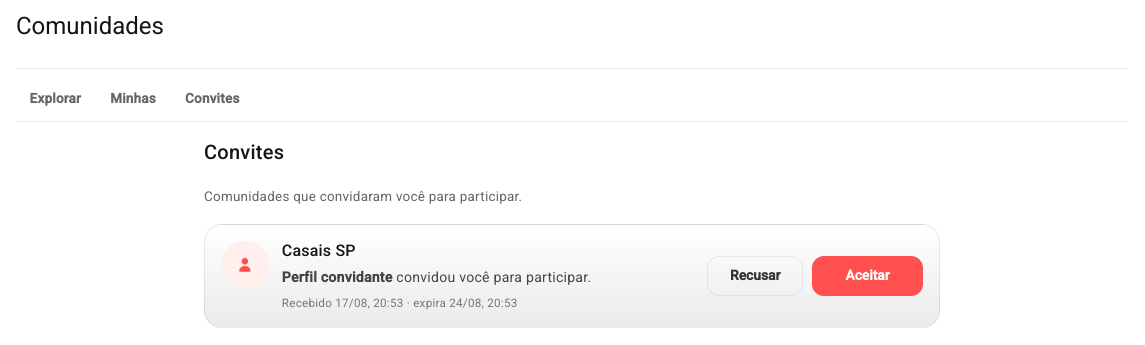
Test: CommunityInvitesPageComponent › mostra progresso apenas no botão Recusar durante a recusa
Click the button with class "community-invite-card__decline" at (755, 276), box [707,256,803,296]
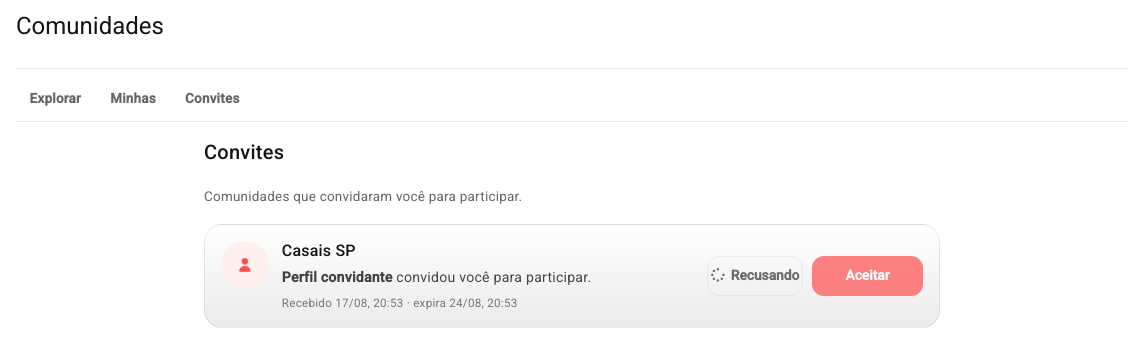
Expected: the text "Aceitar" is shown, [846,269,890,283]
Result: the text "Recusando" is shown at [731,269,799,283]
